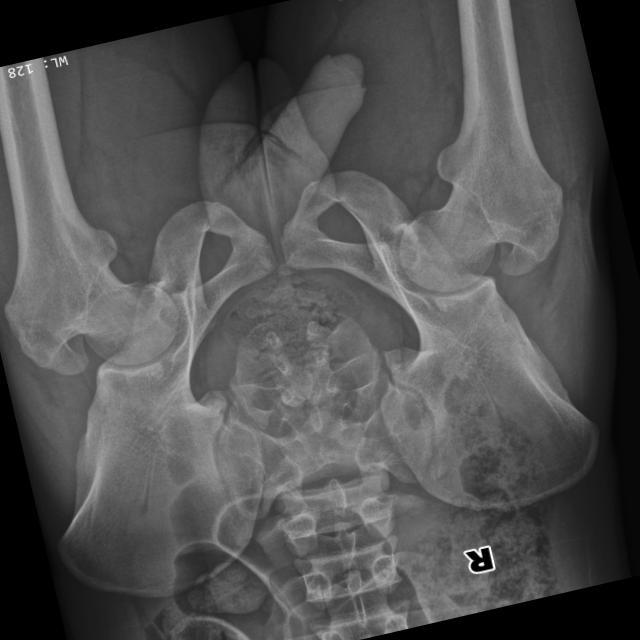normal-left: (1, 135, 176, 373)
normal-right: (399, 27, 562, 290)
